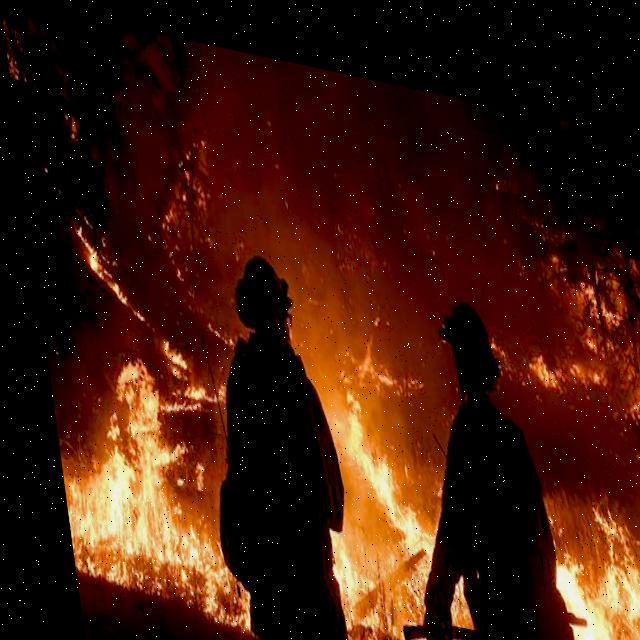Fire: (35, 285, 639, 639)
